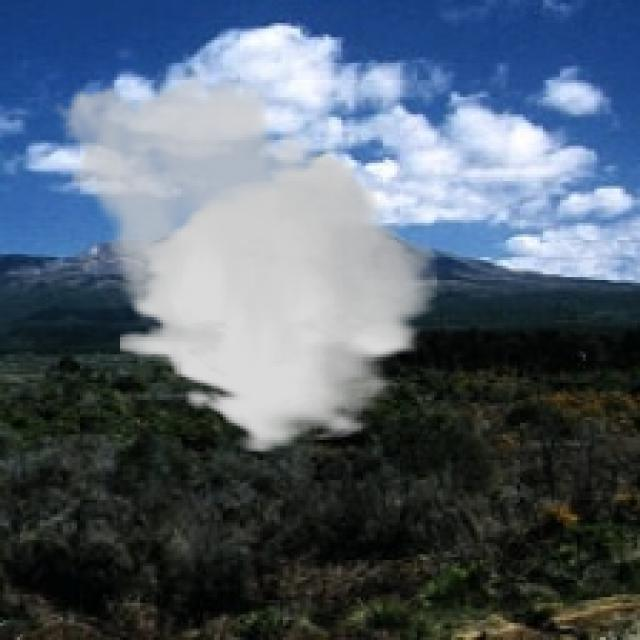smoke: (46, 63, 437, 454)
